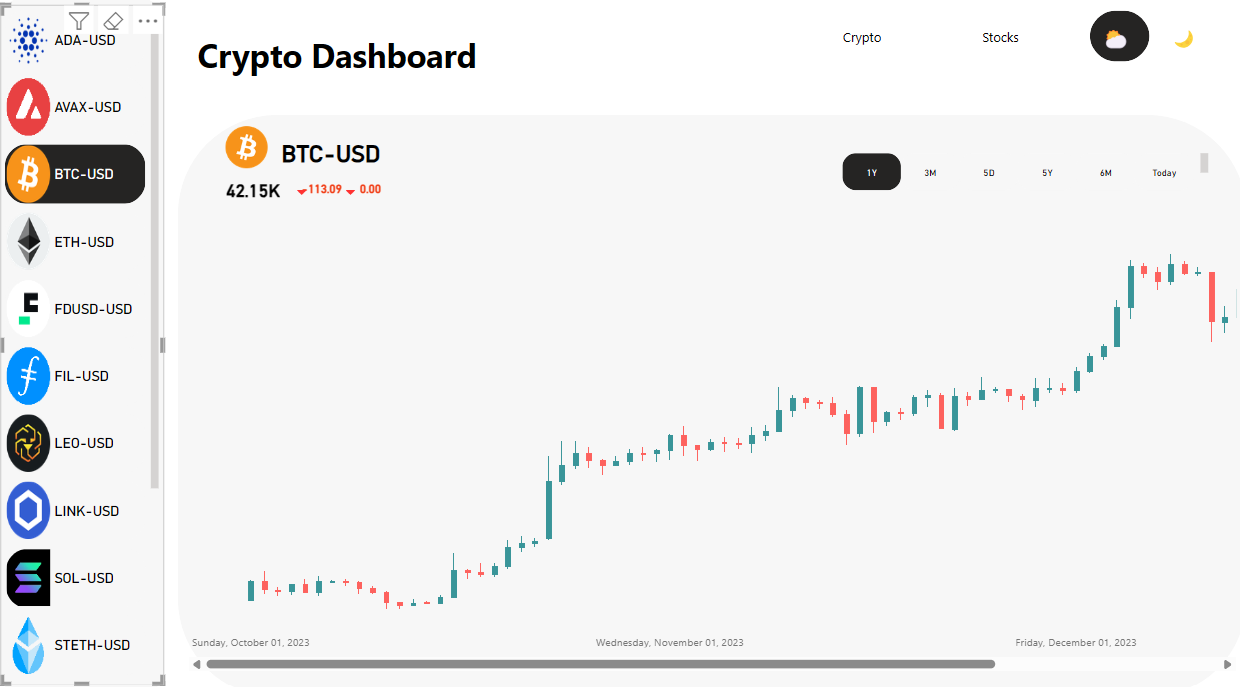

The page's visual inventory and layout, read from the dashboard file:
{"tool":"powerbi","page":{"name":"Crypto","canvas":[1280,720],"ordinal":0},"visuals":[{"type":"shape","box":[0,0,1280.3,720.4],"z":0},{"type":"shape","box":[183.9,122.1,1096.4,598.3],"z":1000},{"type":"shape","box":[0,0,168.8,720.4],"z":2000},{"type":"PBI_CV_886A053E_9DFD_4EA0_A47D_CCAEB89AF969","fields":{"Category":["Stocks Data.Date"],"open":["Sum(Stocks Data.Open)"],"close":["Sum(Stocks Data.Close)"],"high":["Sum(Stocks Data.High)"],"low":["Sum(Stocks Data.Low)"]},"box":[183.4,212.8,1096.9,485.5],"z":3000},{"type":"advancedSlicerVisual","fields":{"Values":["Stocks Data.Symbol"]},"box":[1.4,9.6,167.4,698.5],"z":4000},{"type":"advancedSlicerVisual","fields":{"Values":["Stocks Data.Data Category"]},"box":[859.7,156.5,385.2,48.9],"z":5000},{"type":"advancedSlicerVisual","fields":{"Values":["Color Codes.Label"]},"box":[1114,9.8,141.8,62.4],"z":6000},{"type":"cardVisual","fields":{"Data":["Min(Stocks Data.Logo)"]},"box":[211.3,116.6,89.2,79.6],"z":7000},{"type":"cardVisual","fields":{"Data":["Min(Stocks Data.Symbol)"]},"box":[278.6,130.4,124.9,52.1],"z":8000},{"type":"cardVisual","fields":{"Data":["Stocks Data.Open_Value"]},"box":[211.3,164.7,98.8,54.9],"z":9000},{"type":"cardVisual","fields":{"Data":["Stocks Data.Open_Close_diff"]},"box":[291,166,80,57],"z":10000},{"type":"cardVisual","fields":{"Data":["Stocks Data.Diff_%"]},"box":[341,166,80,57],"z":11000},{"type":"cardVisual","fields":{"Data":["Min(Stocks Data.Logo)"]},"box":[288,172,43,40],"z":12000},{"type":"cardVisual","fields":{"Data":["Min(Stocks Data.Logo)"]},"box":[338,172,43,40],"z":13000},{"type":"shape","box":[198.1,9.8,454.9,100.3],"z":14000},{"type":"pageNavigator","box":[819.2,17.9,274.4,47.4],"z":14001}]}

Visuals, with their boxes on the page's 1280x720 design canvas (x1, y1, x2, y2). These are canvas units, not pixel positions in the 1240x687 screenshot, which may show the page scaled, cropped or inside an application window:
shape: box(0, 0, 1280, 720)
shape: box(184, 122, 1280, 720)
shape: box(0, 0, 169, 720)
PBI_CV_886A053E_9DFD_4EA0_A47D_CCAEB89AF969 - Stocks Data.Date x Sum(Stocks Data.Open): box(183, 213, 1280, 698)
advancedSlicerVisual - Stocks Data.Symbol: box(1, 10, 169, 708)
advancedSlicerVisual - Stocks Data.Data Category: box(860, 156, 1245, 205)
advancedSlicerVisual - Color Codes.Label: box(1114, 10, 1256, 72)
cardVisual - Min(Stocks Data.Logo): box(211, 117, 300, 196)
cardVisual - Min(Stocks Data.Symbol): box(279, 130, 404, 182)
cardVisual - Stocks Data.Open_Value: box(211, 165, 310, 220)
cardVisual - Stocks Data.Open_Close_diff: box(291, 166, 371, 223)
cardVisual - Stocks Data.Diff_%: box(341, 166, 421, 223)
cardVisual - Min(Stocks Data.Logo): box(288, 172, 331, 212)
cardVisual - Min(Stocks Data.Logo): box(338, 172, 381, 212)
shape: box(198, 10, 653, 110)
pageNavigator: box(819, 18, 1094, 65)
